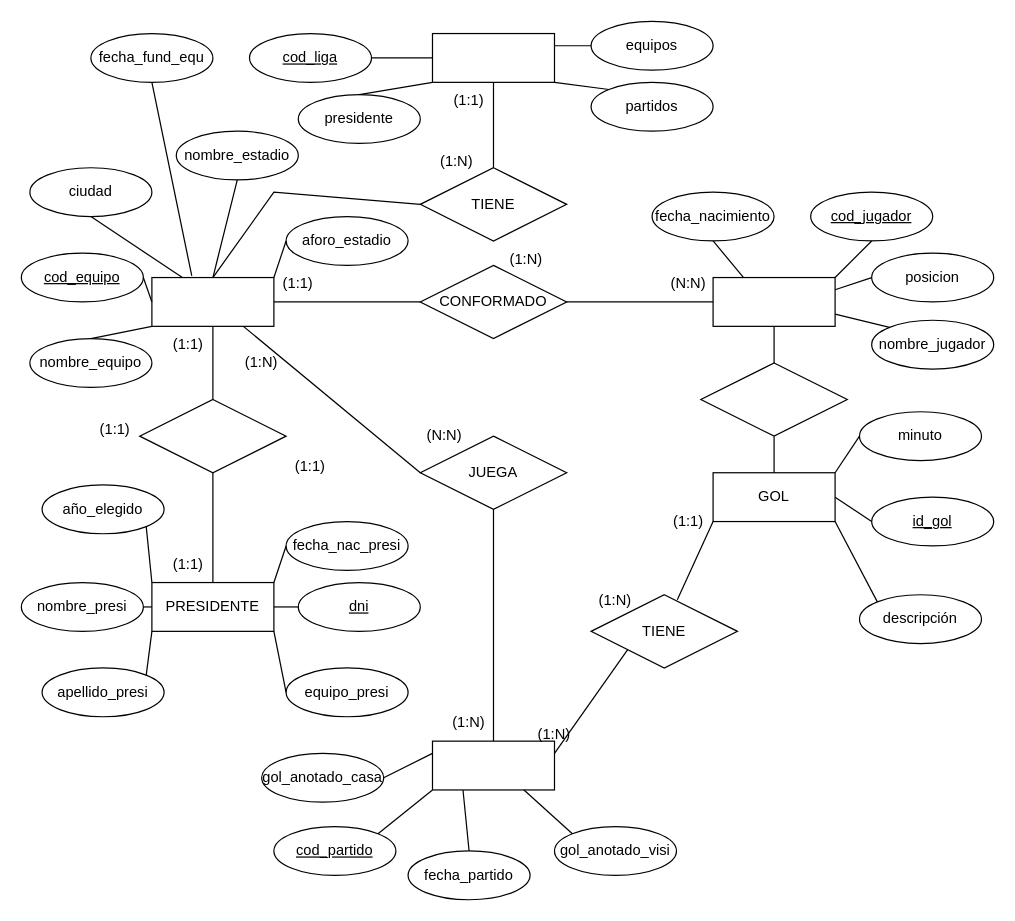
Some shapes in this 1015 by 921 pixel diagram are drawn without their labels. The shapes that lost their labels are listed below. From the top down, each one's centre as x and y in pixels, then its label:
the point at 492,57: LIGA
the point at 212,301: EQUIPO
the point at 773,301: JUGADOR
the point at 773,399: ANOTA
the point at 212,435: PRESIDIDO
the point at 492,765: PARTIDO
